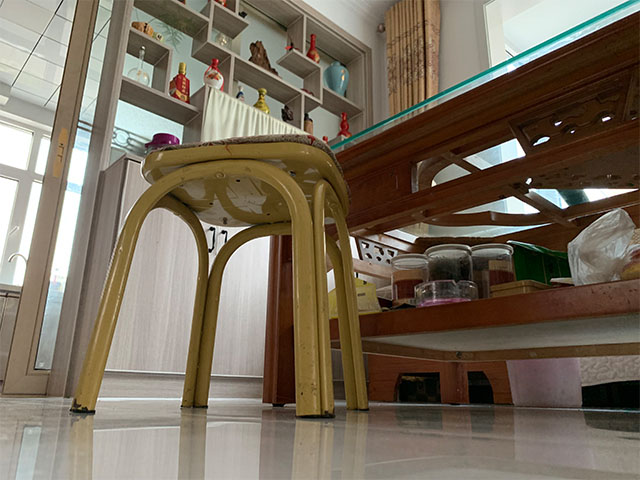cabinet: (72, 158, 254, 400)
stool: (68, 134, 370, 419)
table: (329, 1, 640, 408)
trashcan: (505, 357, 584, 408)
